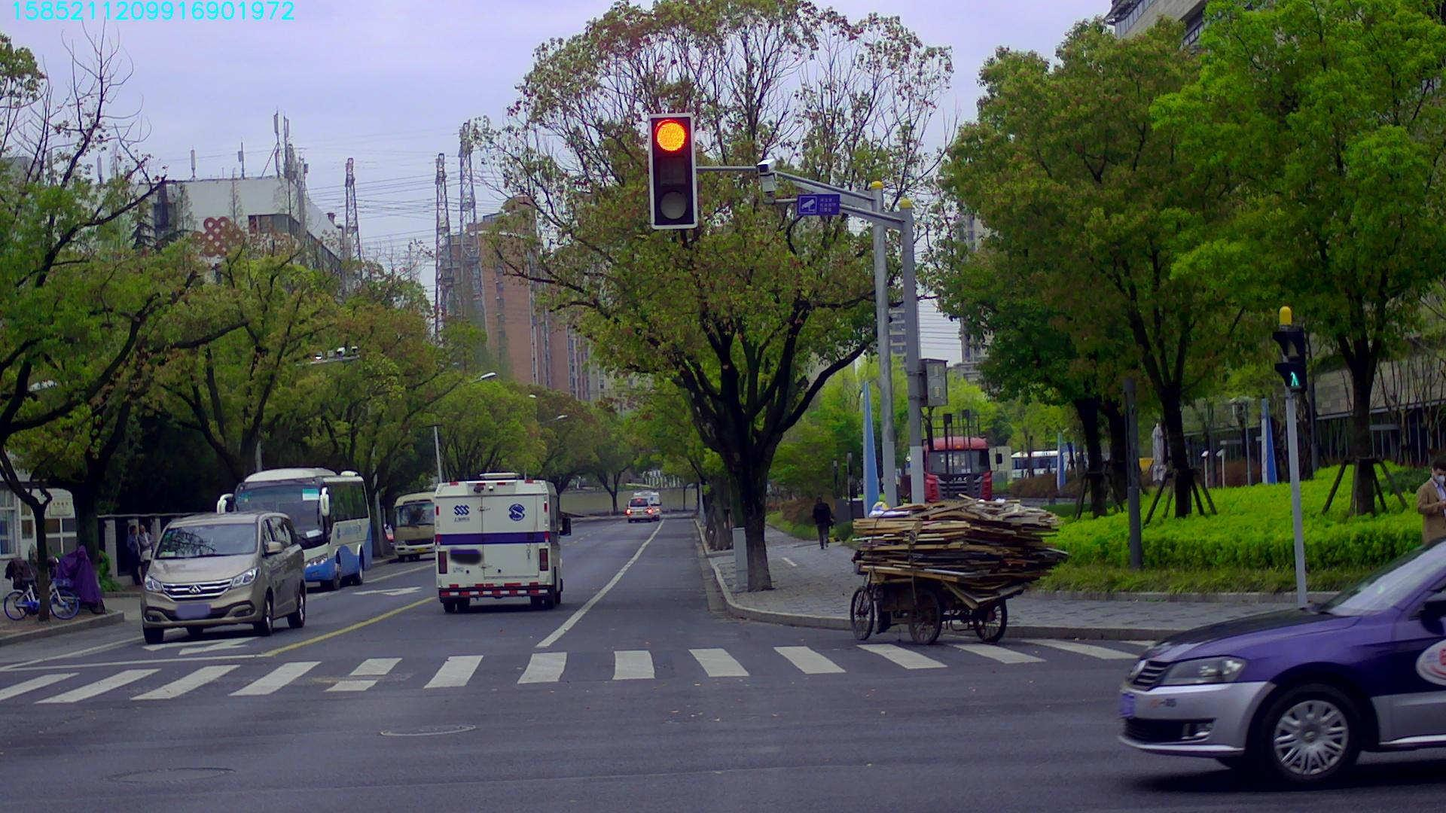red: (650, 114, 694, 227)
